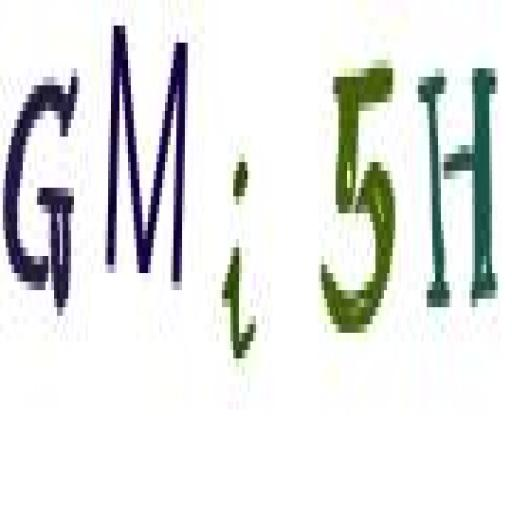5: (325, 42, 404, 358)
G: (0, 52, 86, 330)
H: (413, 47, 500, 335)
M: (104, 12, 189, 284)
i: (220, 150, 261, 385)
